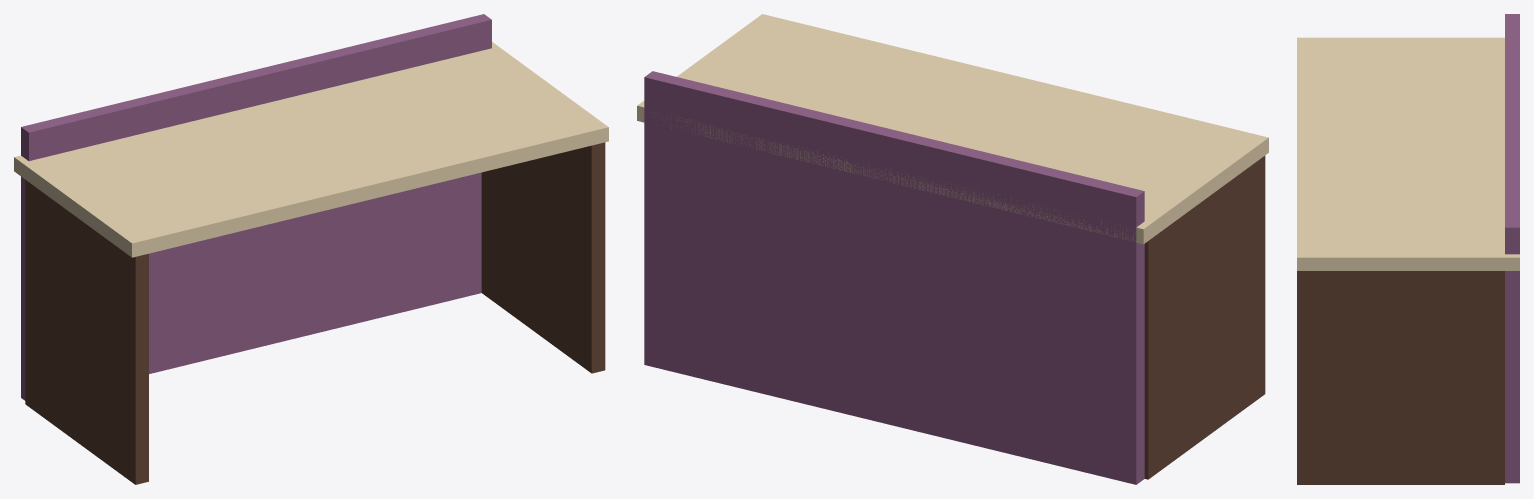
File: dessert-shop.glb
3 renders of one model, left to right at view 1: azimuth 30°, elevation 25°; view 2: azimuth 150°, elevation 25°; view 3: azimuth 270°, elevation 25°, orthographic. The views are drawn at different scales.
Parts seen in each view (by area): view 1: Canopy, Feature wall, Column, Column.001; view 2: Feature wall, Canopy, Column; view 3: Canopy, Column.001, Feature wall.
Part boxes in pixels (<box>): Canopy: <box>14,42,608,257</box>; Feature wall: <box>21,14,491,400</box>; Column: <box>25,180,148,484</box>; Column.001: <box>481,142,605,373</box>; Feature wall: <box>644,71,1144,484</box>; Canopy: <box>637,14,1268,244</box>; Column: <box>1144,155,1265,479</box>; Canopy: <box>1297,37,1519,270</box>; Column.001: <box>1297,271,1504,484</box>; Feature wall: <box>1505,14,1519,483</box>.
Bounding box in the file's own units: 7 × 3.8 × 3.
